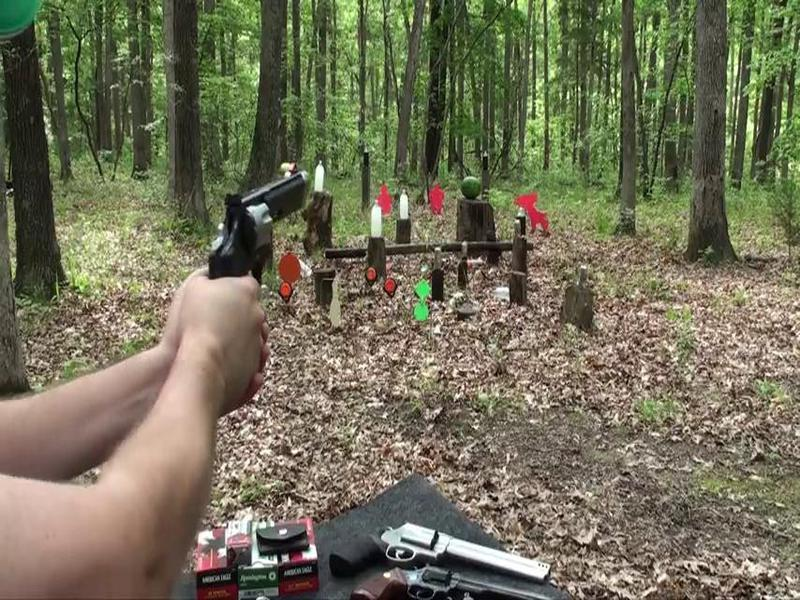Revolver: (194, 157, 312, 282)
